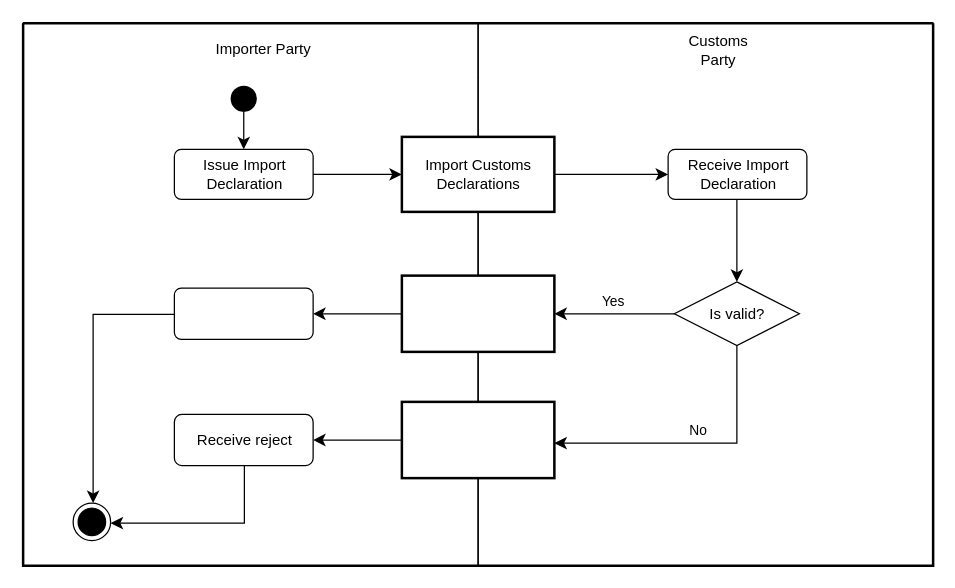
Image size: 955x588. Some labels were removed from this diagram. The box of each missing label's shape, as (x1, y1, x2, y2) in pixels:
Application response (approved): (400, 274, 555, 352)
Application response (rejected): (400, 400, 555, 479)
Receive accept: (173, 287, 313, 339)
